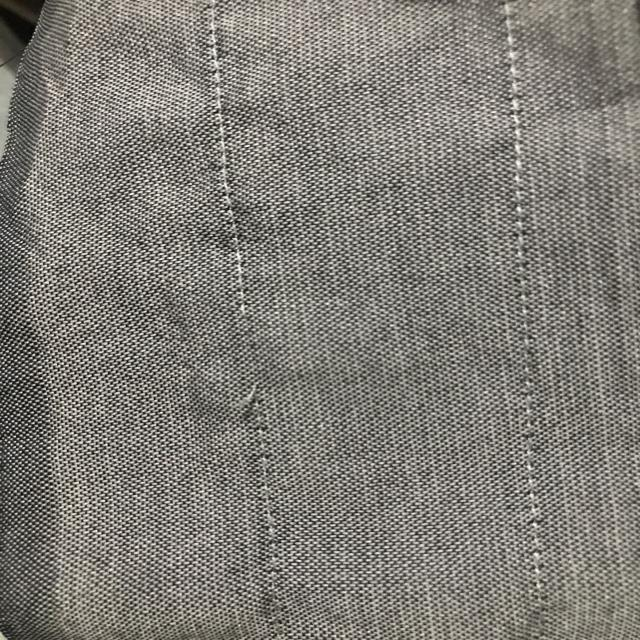broken: (194, 296, 294, 430)
good: (203, 138, 254, 242)
